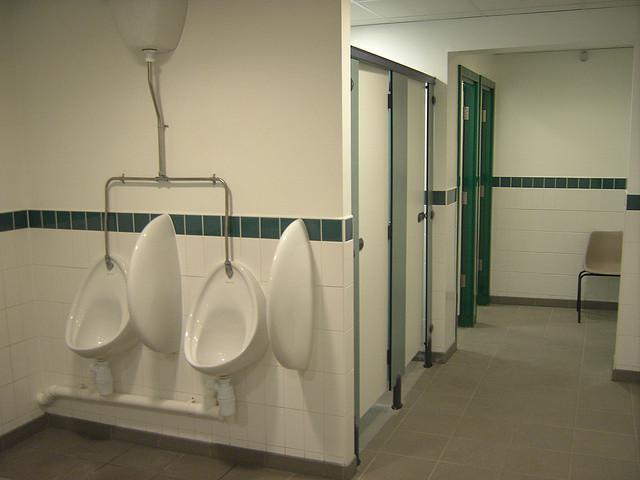Sanitario: (180, 256, 270, 417), (62, 249, 150, 401)
